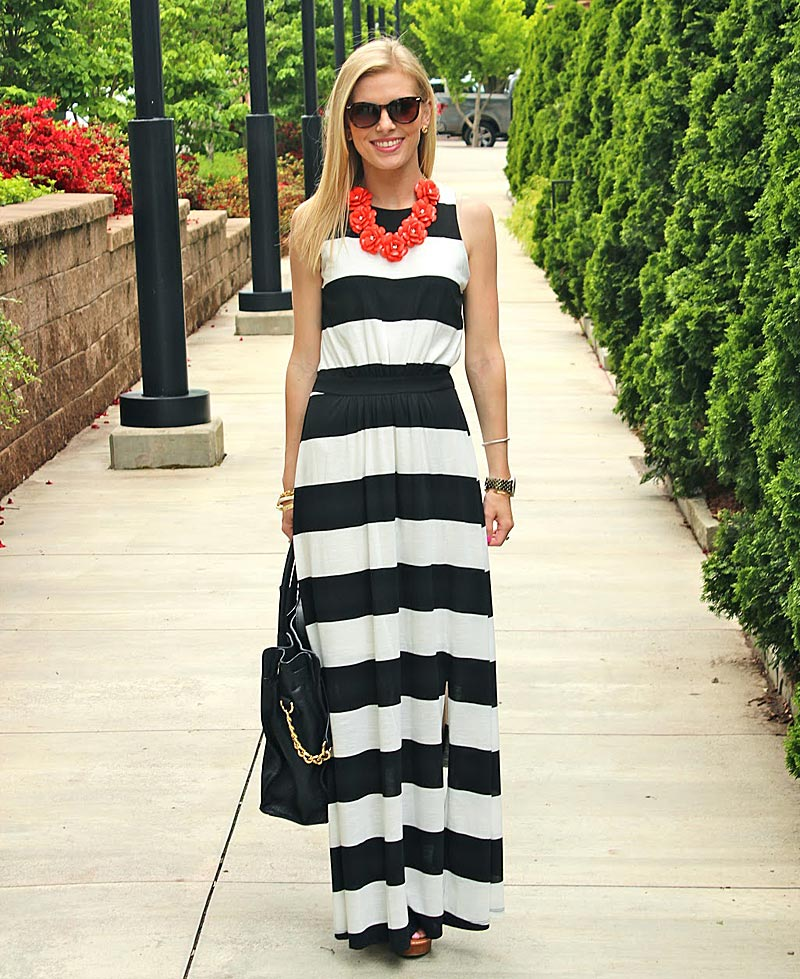striped: (280, 178, 537, 957)
